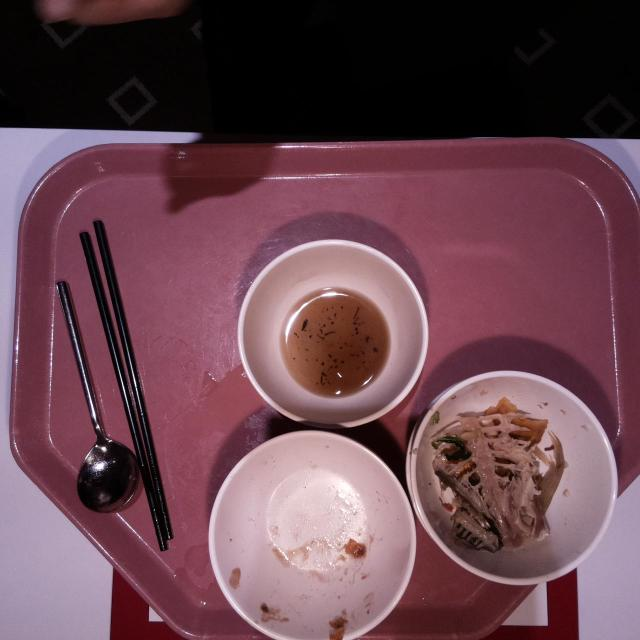Bone-fish: (433, 408, 536, 552)
